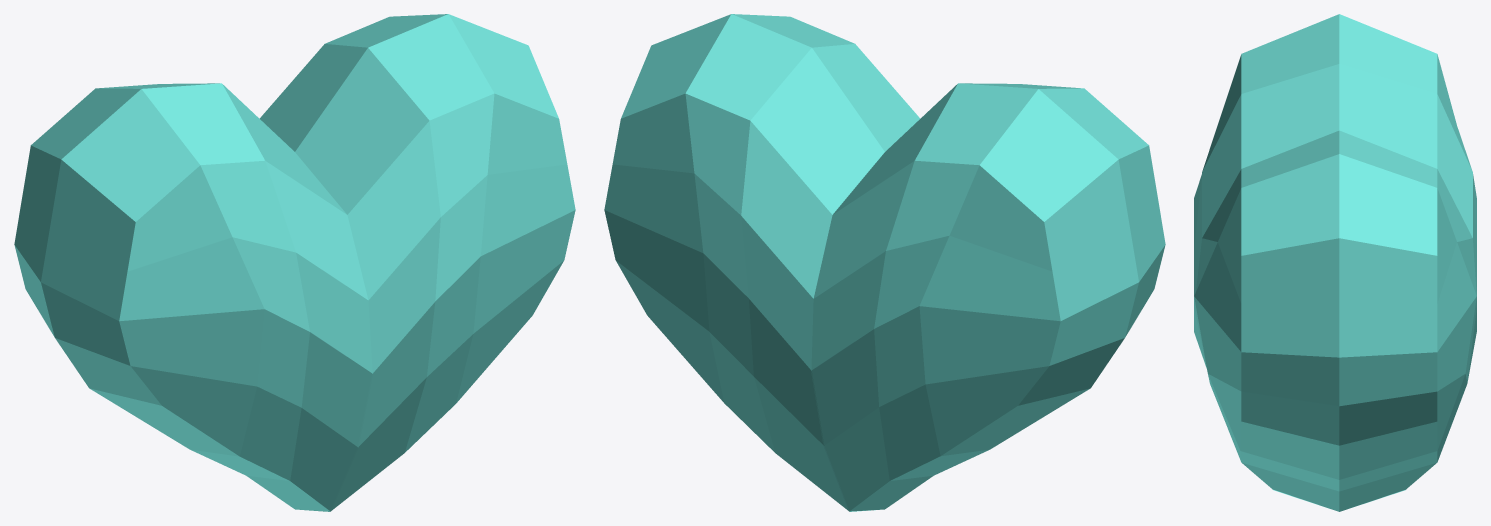
File: hart.fbx
3 views of the same model, side by side, from view 1: azimuth 30°, elevation 25°; view 2: azimuth 150°, elevation 25°; view 3: azimuth 270°, elevation 25° (orthographic). The views are drawn at different scales.
Parts seen in each view (by area): view 1: Icosphere; view 2: Icosphere; view 3: Icosphere.
Part boxes in pixels (x1,y1,x2,y2): Icosphere: (14, 14, 575, 511); Icosphere: (604, 14, 1165, 511); Icosphere: (1194, 14, 1476, 511).
Size of the model in its own units: 56.16 by 48.37 by 28.95.
